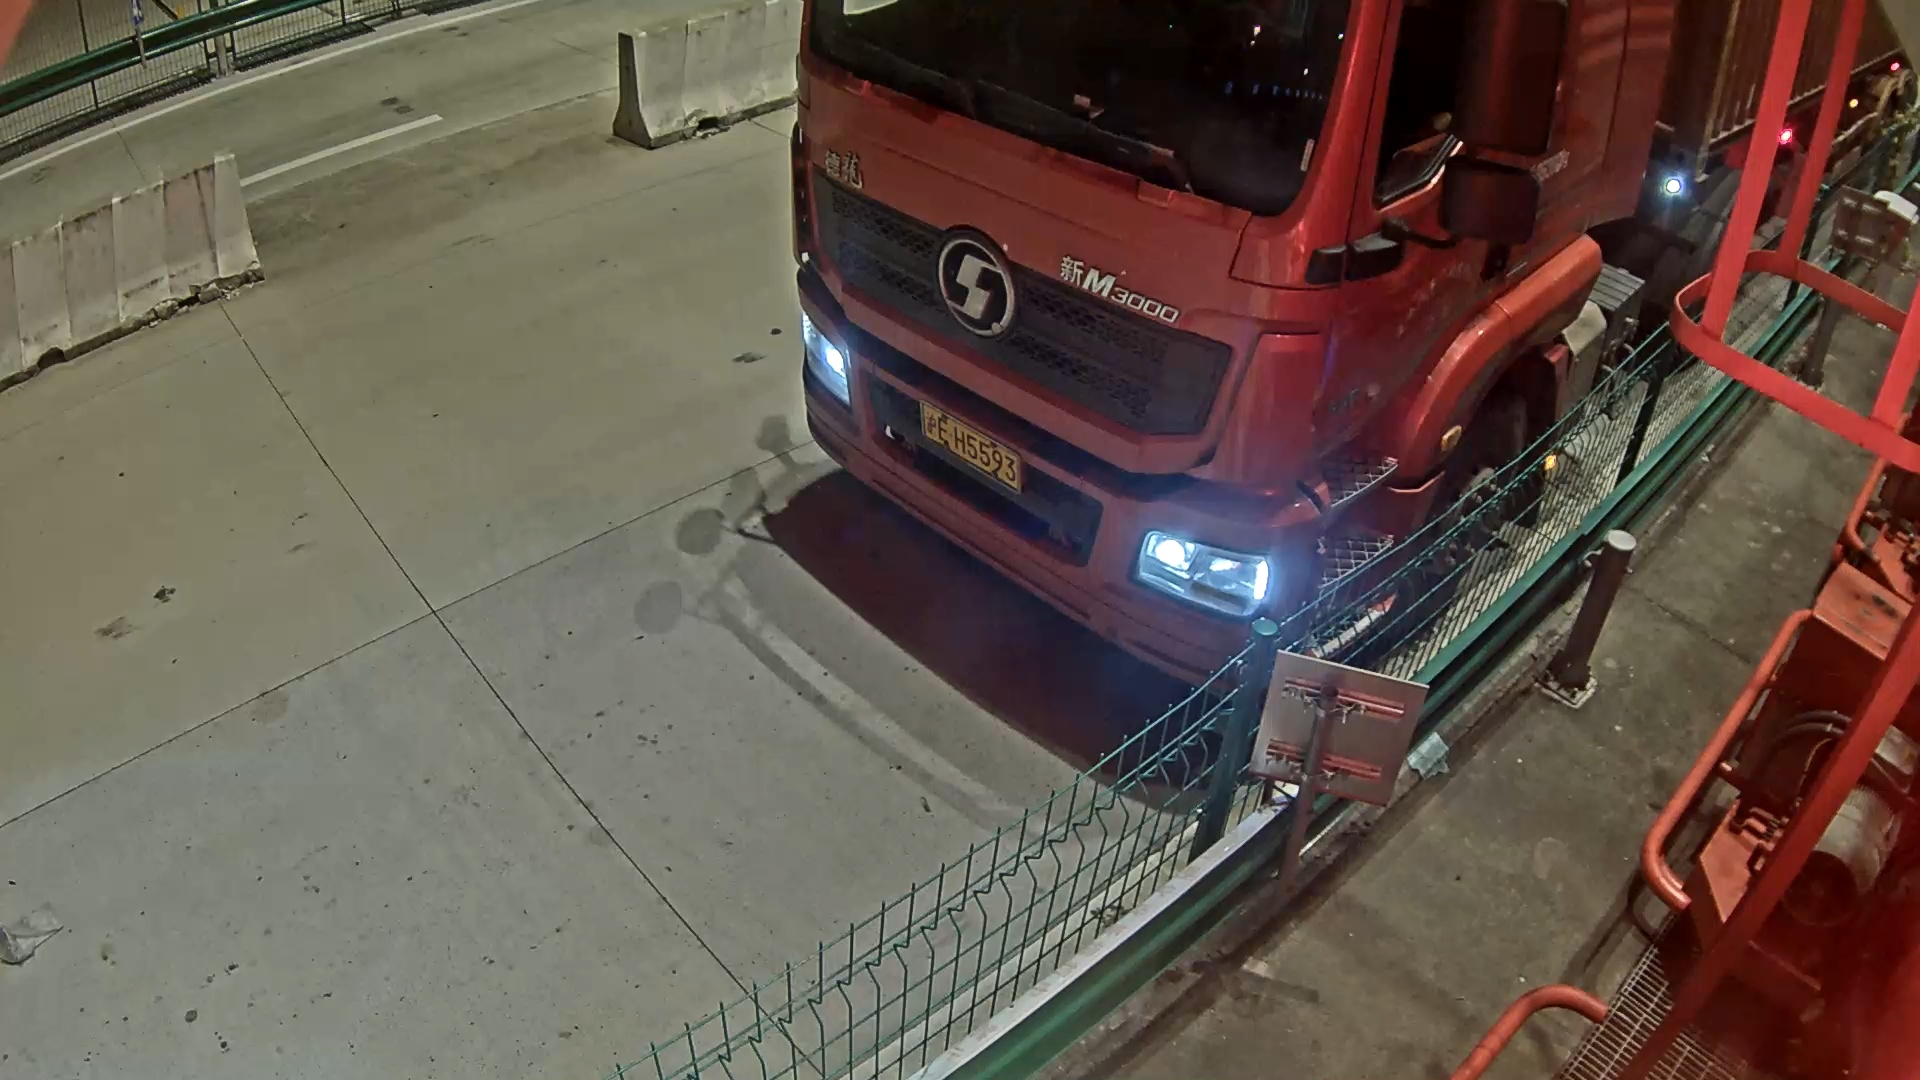head: (796, 1, 1686, 676)
plate: (911, 392, 1020, 492)
